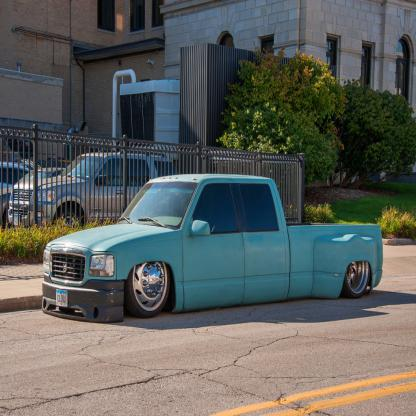Car: (28, 175, 381, 320), (0, 138, 178, 228)
Truck: (32, 175, 398, 319)
